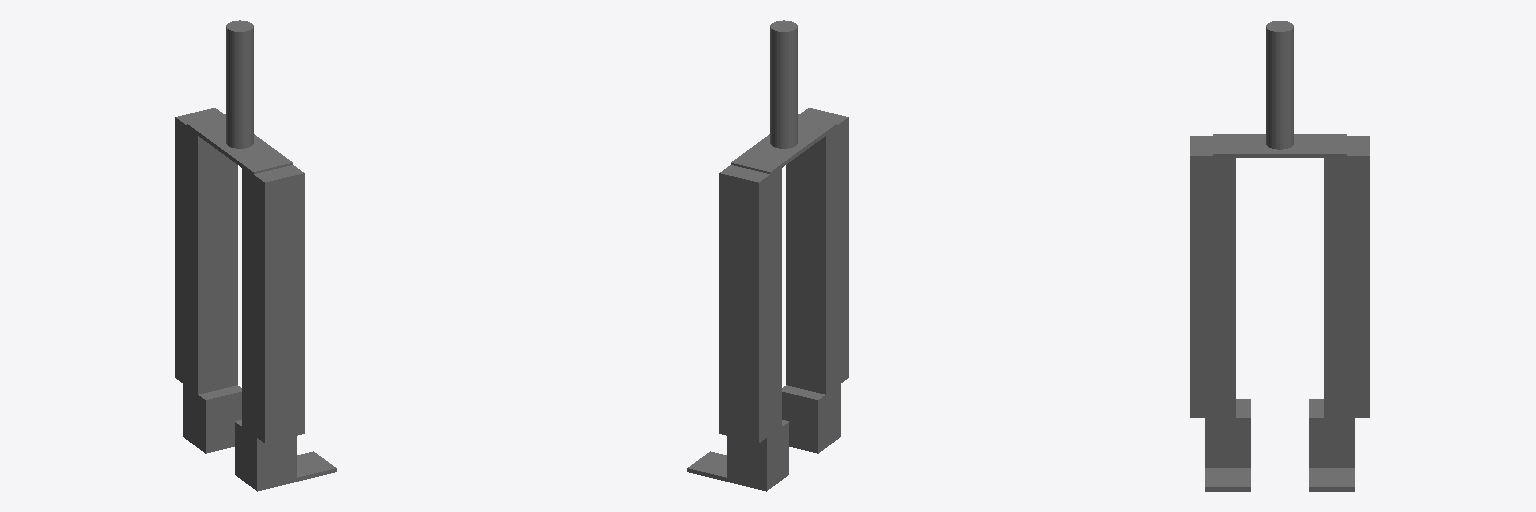
robot.urdf — TEO:
<?xml version="1.0"?>

<robot name="TEO">

<!--**** LINKS ****-->
 <link name="base_link" />
 <link name="base_footprint" />
 <link name="waist">
  <visual>
   <geometry>
    <cylinder length="0.287" radius="0.03"/>
   </geometry>
   <material name="grey">
    <color rgba="0.5 0.5 0.5 1"/>
   </material>
   <origin rpy="0 0 0" xyz="0 0 0.1435"/>
  </visual>
 </link>

<!--**** RIGHT LEG LINKS ****-->
 <link name="right_hip_yaw_link">
  <visual>
   <geometry>
    <box size="0.1 0.146 0.01"/>
   </geometry>
   <material name="grey"/>
   <origin rpy="0 0 0" xyz="0 0.073 0"/>
  </visual>
 </link>
 <link name="right_hip_roll_link" />
 <link name="right_hip_pitch_link" >
  <visual>
   <geometry>
    <box size="0.1 0.1 0.33"/>
   </geometry>
   <material name="grey"/>
   <origin rpy="0 0 0" xyz="0 0 -0.165"/>
  </visual>
 </link>
 <link name="right_knee_pitch_link" >
  <visual>
   <geometry>
    <box size="0.1 0.1 0.3"/>
   </geometry>
   <material name="grey"/>
   <origin rpy="0 0 0" xyz="0 0 -0.15"/>
  </visual>
 </link>
 <link name="right_ankle_pitch_link"/>
 <link name="right_ankle_roll_link" />
 <link name="right_ankle" >
  <visual>
   <geometry>
    <box size="0.1 0.1 0.124"/>
   </geometry>
   <material name="grey"/>
   <origin rpy="0 0 0" xyz="0 0 -0.062"/>
  </visual>
 </link>
 <link name="right_sole" >
  <visual>
   <geometry>
    <box size="0.2 0.1 0.01"/>
   </geometry>
   <material name="grey"/>
   <origin rpy="0 0 0" xyz="0.05 0 0"/>
  </visual>
 </link>


 <link name="left_hip_yaw_link">
  <visual>
   <geometry>
    <box size="0.1 0.146 0.01"/>
   </geometry>
   <material name="grey"/>
   <origin rpy="0 0 0" xyz="0 -0.073 0"/>
  </visual>
 </link>
 <link name="left_hip_roll_link" />
 <link name="left_hip_pitch_link" >
  <visual>
   <geometry>
    <box size="0.1 0.1 0.33"/>
   </geometry>
   <material name="grey"/>
   <origin rpy="0 0 0" xyz="0 0 -0.165"/>
  </visual>
 </link>
 <link name="left_knee_pitch_link" >
  <visual>
   <geometry>
    <box size="0.1 0.1 0.3"/>
   </geometry>
   <material name="grey"/>
   <origin rpy="0 0 0" xyz="0 0 -0.15"/>
  </visual>
 </link>
 <link name="left_ankle_pitch_link" />
 <link name="left_ankle_roll_link" />
 <link name="left_ankle" >
  <visual>
   <geometry>
    <box size="0.1 0.1 0.124"/>
   </geometry>
   <material name="grey"/>
   <origin rpy="0 0 0" xyz="0 0 -0.062"/>
  </visual>
 </link>
 <link name="left_sole" >
  <visual>
   <geometry>
    <box size="0.2 0.1 0.01"/>
   </geometry>
   <material name="grey"/>
   <origin rpy="0 0 0" xyz="0.05 0 0"/>
  </visual>
 </link>


<!--**** FICTICIOUS JOINTS ****-->
  <joint name="footprint_joint" type="fixed">
    <parent link="base_link"/>
    <child link="base_footprint"/>
    <origin xyz="0 0 -0.754" rpy="0 0 0" />
  </joint>

  <joint name="base_joint" type="fixed">
    <parent link="base_link"/>
    <child link="waist"/>
    <origin xyz="0 0 0" rpy="0 0 0" />
  </joint>

<!--**** LEGS JOINTS ****-->
  <joint name="right_hip_yaw" type="revolute">
    <parent link="waist"/>
    <child link="right_hip_yaw_link"/>
    <origin xyz="0 -0.146 0" rpy="0 0 0"/> <!--y=Leg_link1-->
    <axis xyz="0 0 1"/>
    <limit velocity="3.0" effort="30" lower="-0.523598775" upper="0.41887902"/>
  </joint> 
  <joint name="left_hip_yaw" type="revolute">
    <parent link="waist"/>
    <child link="left_hip_yaw_link"/>
    <origin xyz="0 0.146 0" rpy="0 0 0"/> <!--y=Leg_link1-->
    <axis xyz="0 0 1"/>
    <limit velocity="3.0" effort="30" lower="-0.523598775" upper="0.41887902"/>
  </joint>

  <joint name="right_hip_roll" type="revolute">
    <parent link="right_hip_yaw_link"/>
    <child link="right_hip_roll_link"/>
    <origin xyz="0 0 0" rpy="0 0 0"/>
    <axis xyz="1 0 0"/>
    <limit velocity="3.0" effort="30" lower="-0.6981317" upper="0.523598775"/>
  </joint> 
  <joint name="left_hip_roll" type="revolute">
    <parent link="left_hip_yaw_link"/>
    <child link="left_hip_roll_link"/>
    <origin xyz="0 0 0" rpy="0 0 0"/>
    <axis xyz="1 0 0"/>
    <limit velocity="3.0" effort="30" lower="-0.6981317" upper="0.523598775"/>
  </joint> 

  <joint name="right_hip_pitch" type="revolute">
    <parent link="right_hip_roll_link"/>
    <child link="right_hip_pitch_link"/>
    <origin xyz="0 0 0" rpy="0 0 0"/>
    <axis xyz="0 1 0"/>
    <!-- right_hip_pitch limits: -1.772308 .. 0.485624 -->
    <limit velocity="3.0" effort="30" lower="-2.094395102" upper="0.785398163"/>
  </joint>
  <joint name="left_hip_pitch" type="revolute">
    <parent link="left_hip_roll_link"/>
    <child link="left_hip_pitch_link"/>
    <origin xyz="0 0 0" rpy="0 0 0"/>
    <axis xyz="0 1 0"/>
    <!-- left_hip_pitch limits: -1.773912 .. 0.484090 -->
    <limit velocity="3.0" effort="30" lower="-2.094395102" upper="0.785398163"/>
  </joint>

  <joint name="right_knee_pitch" type="revolute">
    <parent link="right_hip_pitch_link"/>
    <child link="right_knee_pitch_link"/>
    <origin xyz="0 0 -0.33" rpy="0 0 0"/> <!--z=Leg_link2-->
    <axis xyz="0 1 0"/>
    <!-- right_knee_pitch limits: -0.103083 .. 2.120198 -->
    <limit velocity="3.0" effort="30" lower="0.0000" upper="1.570796327"/>
  </joint>
  <joint name="left_knee_pitch" type="revolute">
    <parent link="left_hip_pitch_link"/>
    <child link="left_knee_pitch_link"/>
    <origin xyz="0 0 -0.33" rpy="0 0 0"/> <!--z=Leg_link2-->
    <axis xyz="0 1 0"/>
    <!-- left_knee_pitch limits: -0.092346 .. 2.112528 -->
    <limit velocity="3.0" effort="30" lower="0.0000" upper="1.570796327"/>
  </joint>

  <joint name="right_ankle_pitch" type="revolute">
    <parent link="right_knee_pitch_link"/>
    <child link="right_ankle_pitch_link"/>
    <origin xyz="0 0.033 -0.3" rpy="0 0 0"/> <!-- y=Leg_link4 and z=Leg_link3 -->
    <axis xyz="0 1 0"/>
    <!-- right_ankle_pitch limits: -1.186448 .. 0.932056 -->
    <limit velocity="3.0" effort="30" lower="-0.34906585" upper="0.34906585"/>
  </joint>
  <joint name="left_ankle_pitch" type="revolute">
    <parent link="left_knee_pitch_link"/>
    <child link="left_ankle_pitch_link"/>
    <origin xyz="0 -0.033 -0.3" rpy="0 0 0"/> <!-- y=Leg_link4 and z=Leg_link3 -->
    <axis xyz="0 1 0"/>
    <!-- left_ankle_pitch limits: -1.189516 .. 0.922747 -->
    <limit velocity="3.0" effort="30" lower="-0.34906585" upper="0.34906585"/>
  </joint>


  <joint name="right_ankle_roll" type="revolute">
    <parent link="right_ankle_pitch_link"/>
    <child link="right_ankle_roll_link"/>
    <origin xyz="0 0 0" rpy="0 0 0"/>
    <axis xyz="1 0 0"/>
    <limit velocity="3.0" effort="30" lower="-1.483529864" upper="1.483529864"/>
  </joint>
  <joint name="left_ankle_roll" type="revolute">
    <parent link="left_ankle_pitch_link"/>
    <child link="left_ankle_roll_link"/>
    <origin xyz="0 0 0" rpy="0 0 0"/>
    <axis xyz="1 0 0"/>
    <limit velocity="3.0" effort="30" lower="-1.483529864" upper="1.483529864"/>
  </joint>

  <joint name="right_ankle_joint" type="fixed">
    <parent link="right_ankle_roll_link" />
    <child link="right_ankle" />
    <origin xyz="0 0 0" />
  </joint>
  <joint name="left_ankle_joint" type="fixed">
    <parent link="left_ankle_roll_link" />
    <child link="left_ankle" />
    <origin xyz="0 0 0" />
  </joint>
  <joint name="right_sole_joint" type="fixed">
    <parent link="right_ankle" />
    <child link="right_sole" />
    <origin xyz="0 0 -0.124" /> <!--z=Leg_link5 -->
  </joint>
  <joint name="left_sole_joint" type="fixed">
    <parent link="left_ankle" />
    <child link="left_sole" />
    <origin xyz="0 0 -0.124" /> <!--z=Leg_link5 -->
  </joint>

</robot>

--- Render facts (derived) ---
The picture shows the robot from 3 angles, left to right: view 1: azimuth 30°, elevation 25°; view 2: azimuth 150°, elevation 25°; view 3: azimuth 270°, elevation 25°; orthographic projection.
Robot: TEO — 19 links, 18 joints (12 revolute, 6 fixed); root link base_link; default pose: every joint at zero.
Links seen in each view (by area): view 1: right_hip_pitch_link, left_hip_pitch_link, left_knee_pitch_link, right_knee_pitch_link, waist, left_ankle, right_ankle, right_hip_yaw_link, right_sole, left_hip_yaw_link; view 2: left_hip_pitch_link, right_hip_pitch_link, right_knee_pitch_link, left_knee_pitch_link, waist, right_ankle, left_ankle, left_hip_yaw_link, left_sole, right_hip_yaw_link; view 3: right_hip_pitch_link, left_hip_pitch_link, right_knee_pitch_link, left_knee_pitch_link, waist, right_ankle, left_ankle, right_hip_yaw_link, left_hip_yaw_link, right_sole, left_sole.
Link boxes in pixels (<box>): right_hip_pitch_link: <box>242,165,304,318</box>; left_hip_pitch_link: <box>175,108,237,269</box>; left_knee_pitch_link: <box>175,254,237,394</box>; right_knee_pitch_link: <box>242,303,304,442</box>; waist: <box>226,20,253,148</box>; left_ankle: <box>183,384,241,450</box>; right_ankle: <box>235,420,296,486</box>; right_hip_yaw_link: <box>220,138,292,175</box>; right_sole: <box>235,451,336,491</box>; left_hip_yaw_link: <box>187,114,258,151</box>; left_hip_pitch_link: <box>719,165,781,318</box>; right_hip_pitch_link: <box>786,108,848,269</box>; right_knee_pitch_link: <box>786,254,848,394</box>; left_knee_pitch_link: <box>719,303,781,442</box>; waist: <box>770,20,797,148</box>; right_ankle: <box>782,384,840,450</box>; left_ankle: <box>727,420,788,486</box>; left_hip_yaw_link: <box>731,138,803,173</box>; left_sole: <box>687,451,788,491</box>; right_hip_yaw_link: <box>765,114,836,151</box>; right_hip_pitch_link: <box>1190,136,1235,292</box>; left_hip_pitch_link: <box>1324,136,1369,292</box>; right_knee_pitch_link: <box>1190,293,1235,417</box>; left_knee_pitch_link: <box>1324,293,1369,417</box>; waist: <box>1266,21,1293,149</box>; right_ankle: <box>1205,399,1250,467</box>; left_ankle: <box>1309,399,1354,467</box>; right_hip_yaw_link: <box>1213,134,1279,157</box>; left_hip_yaw_link: <box>1280,134,1346,157</box>; right_sole: <box>1205,468,1250,491</box>; left_sole: <box>1309,468,1354,491</box>.
Bounding box of the posed robot: 0.2 × 0.392 × 1.05 m (x, y, z).
Geometry: primitives only (box / cylinder / sphere), no mesh files.
